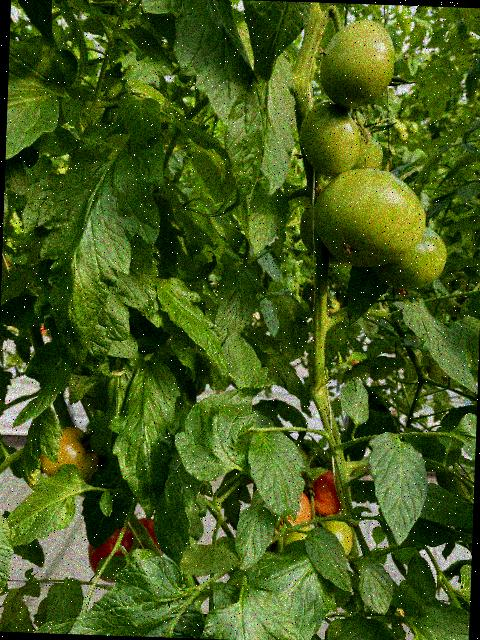b_green: (312, 165, 428, 270), (318, 17, 396, 110), (368, 224, 448, 291), (298, 100, 362, 177), (298, 200, 349, 266), (344, 108, 385, 171)
